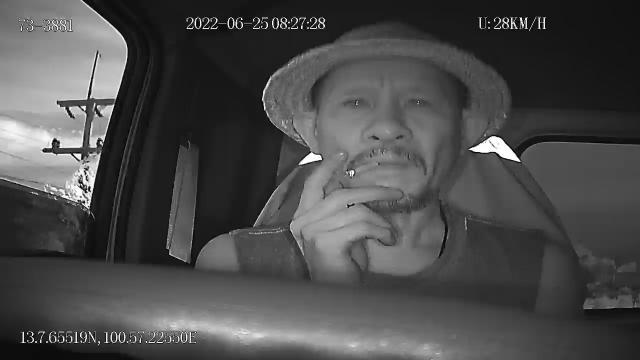SafeDriving: (398, 87, 439, 118), (336, 85, 376, 115)
Smoking: (344, 156, 382, 180)
